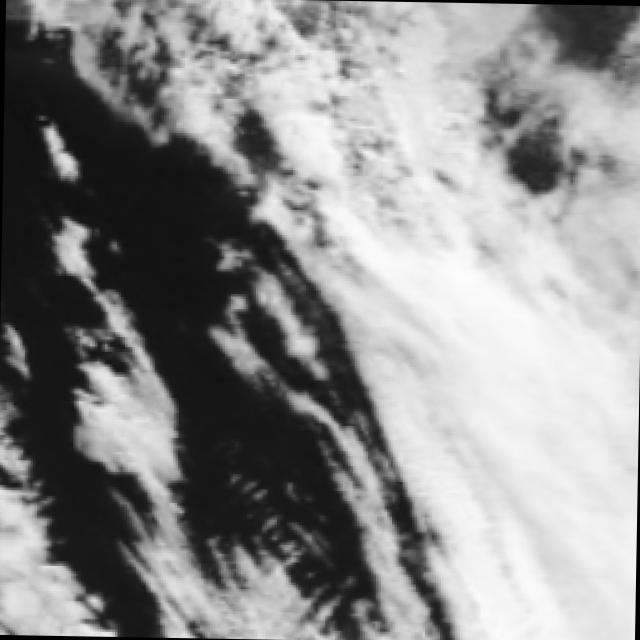CB: (425, 286, 640, 459), (368, 235, 579, 396), (466, 455, 637, 640)
